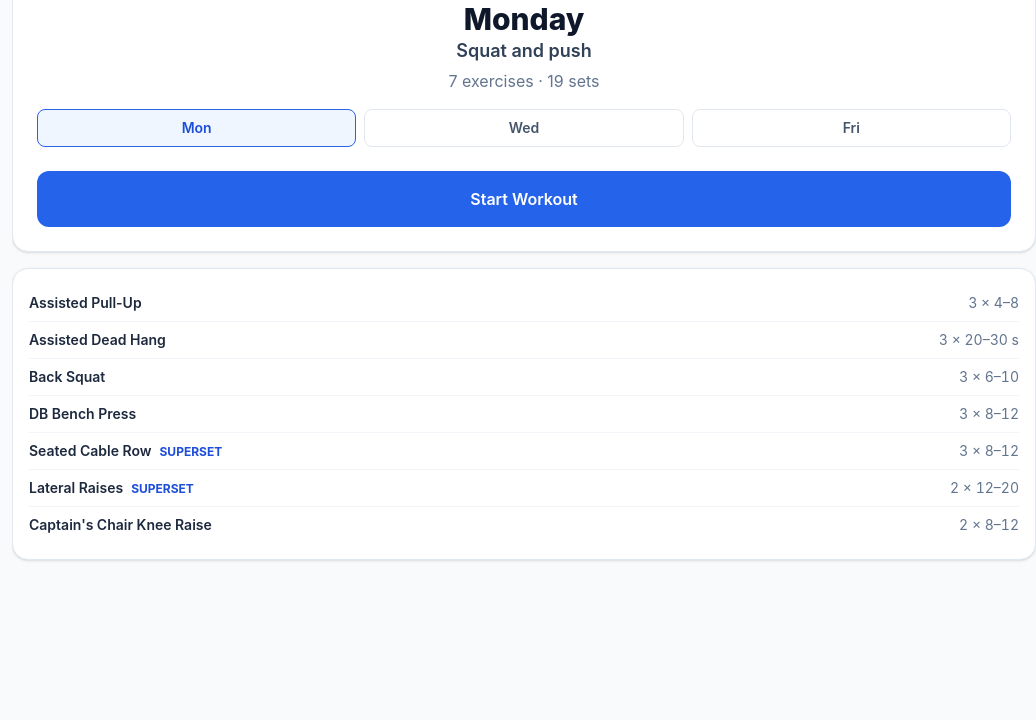
Test case: Strength runs Preset Programme 1 (S-004, spec §10.1) › shows rest as a recommendation only, with no timer
Click the button "Start Workout".
click(524, 199)  # box x1=37 y1=171 x2=1011 y2=227
(page scrolled)
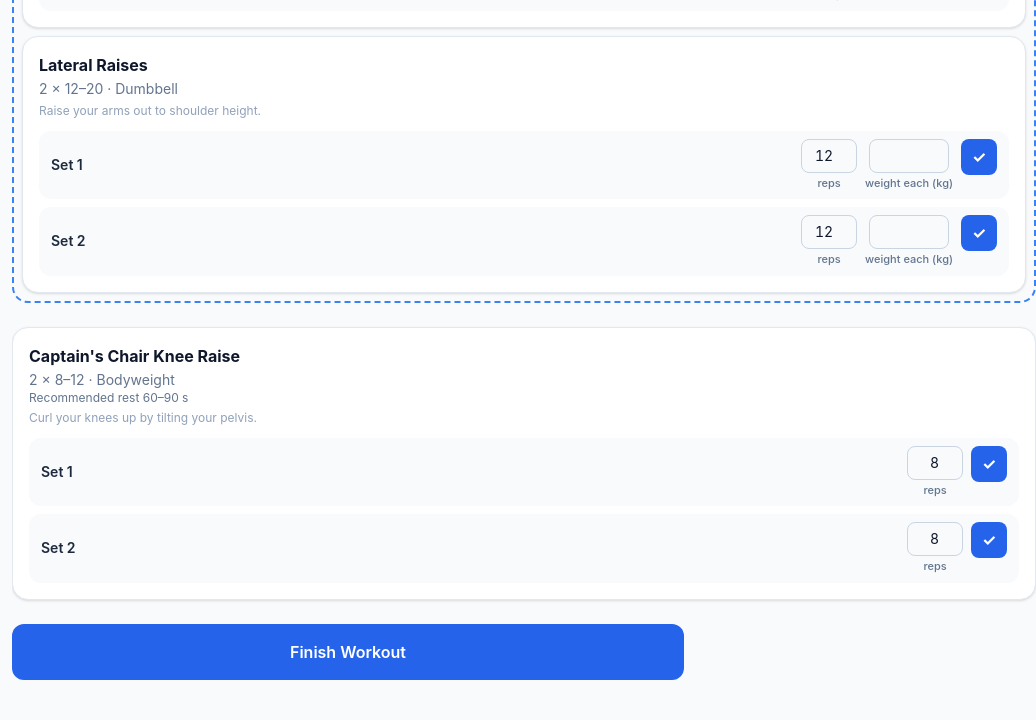
Result: the text "Recommended rest 60–90 s" is shown at x1=29 y1=390 x2=188 y2=404
